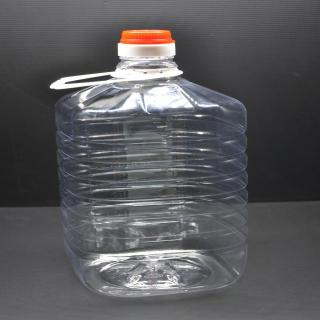Plastic-bottle: (45, 27, 254, 305)
